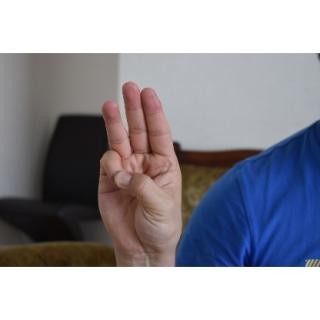THA: (90, 71, 196, 269)
